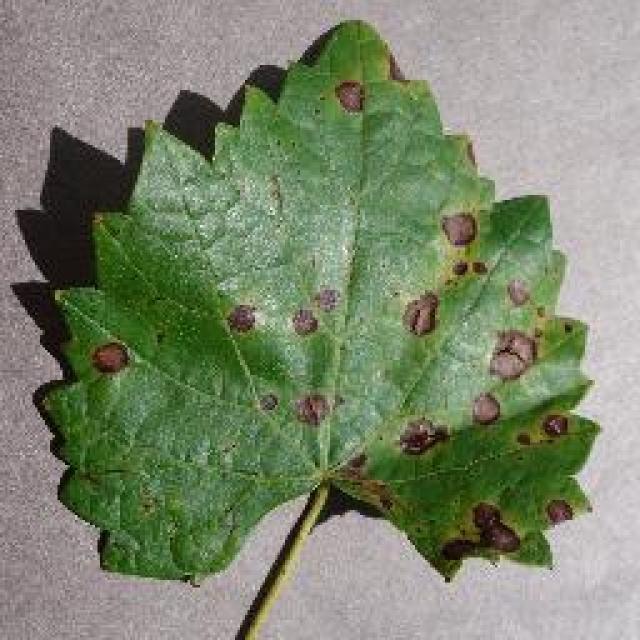Grape___Black_rot: (28, 13, 612, 593)
